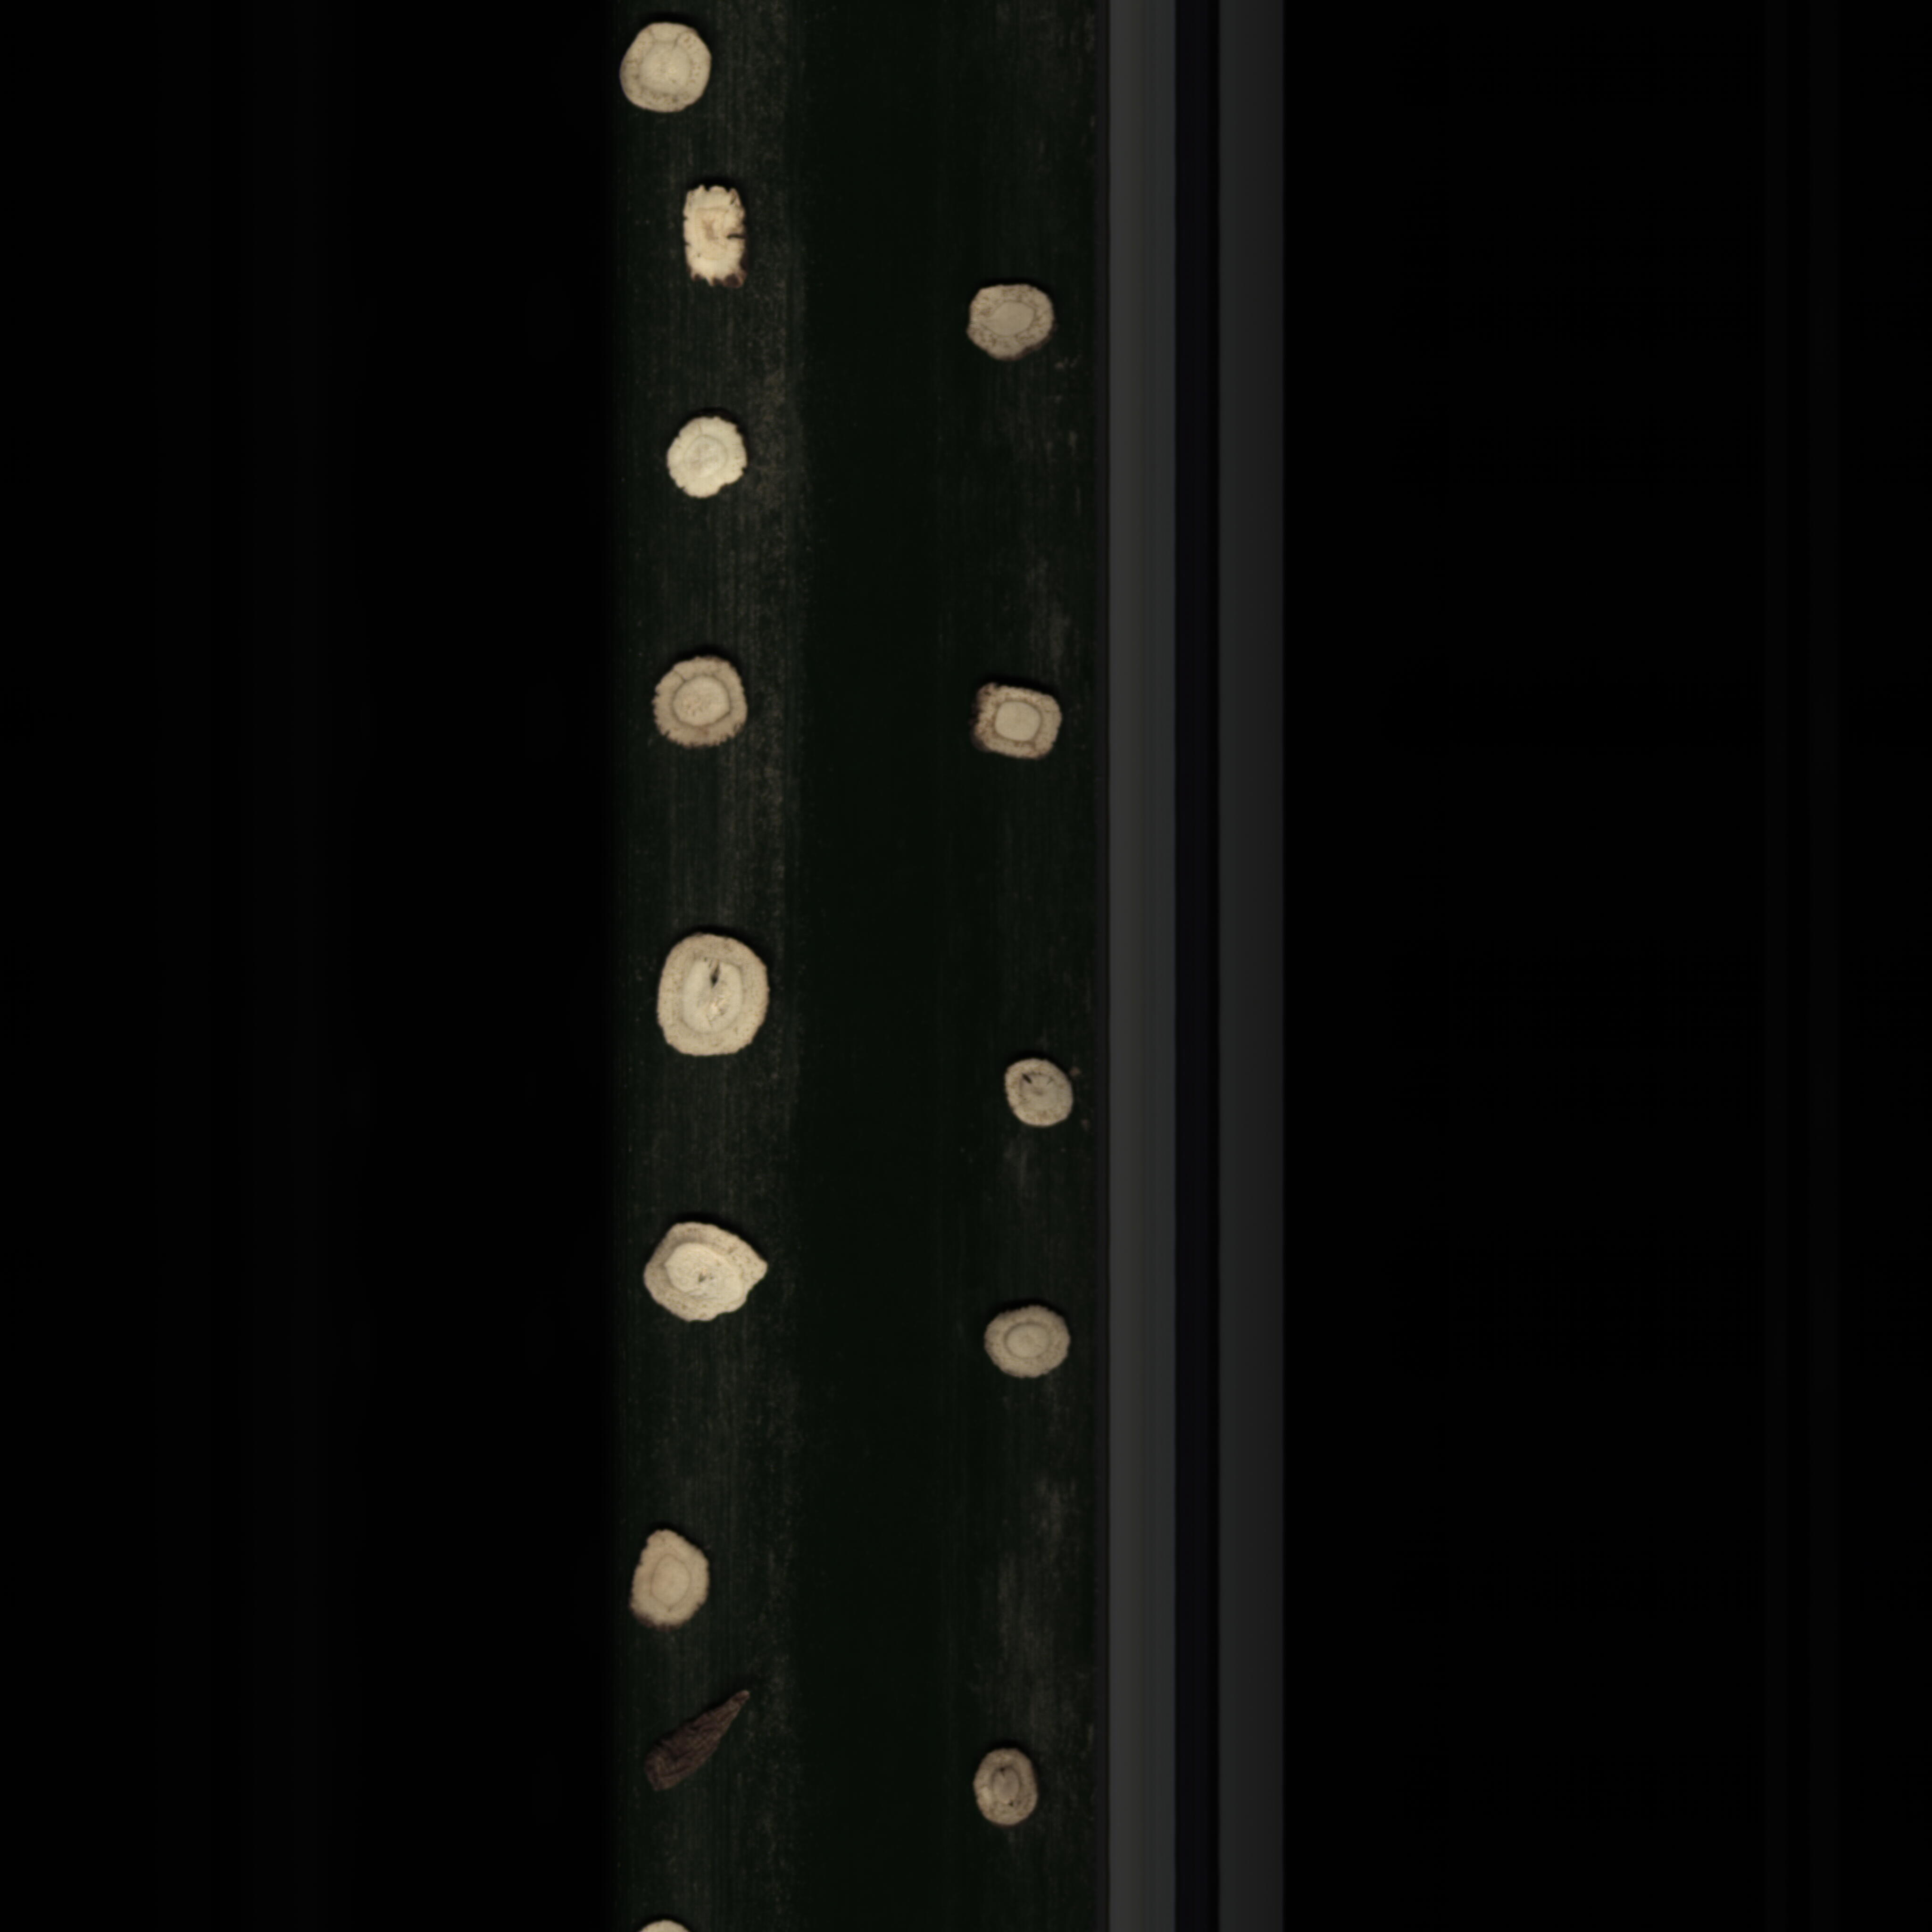bark: (640, 1679, 757, 1798)
debris: (635, 1214, 773, 1339)
distortion: (672, 180, 761, 294)
hole: (642, 922, 780, 1077)
moldy: (649, 651, 754, 757), (964, 1736, 1044, 1845)
